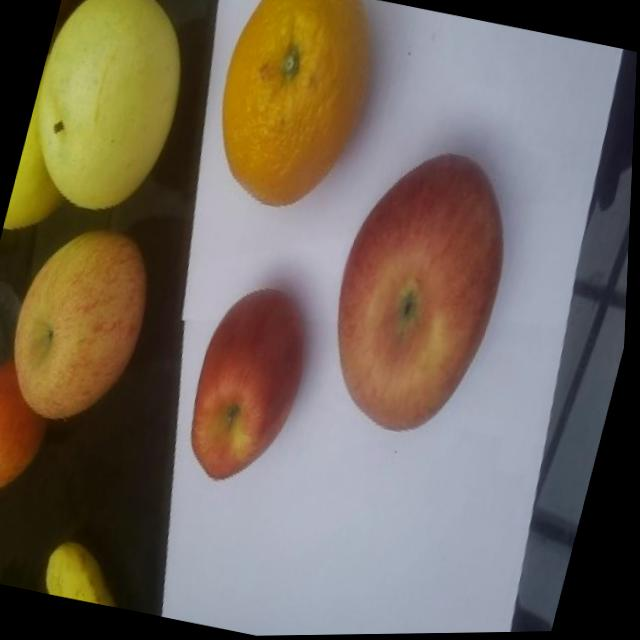Apple: (309, 138, 531, 448), (0, 215, 167, 435), (176, 279, 325, 495), (0, 349, 65, 503)
Banana: (43, 537, 135, 608)
Orange: (195, 0, 388, 222)
